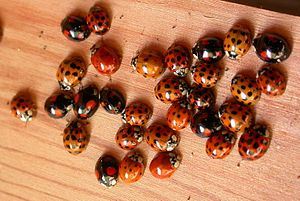red: (252, 33, 290, 63), (217, 102, 253, 132), (143, 122, 180, 150), (240, 126, 270, 160), (223, 23, 251, 58), (62, 119, 89, 155), (256, 66, 286, 98), (153, 75, 187, 103), (130, 52, 165, 79), (230, 74, 260, 104), (90, 44, 119, 75), (149, 150, 180, 179), (205, 132, 237, 160), (56, 55, 84, 86), (119, 151, 146, 183), (164, 44, 191, 76), (192, 61, 221, 88), (166, 102, 192, 131), (115, 126, 145, 151), (121, 103, 152, 127), (9, 96, 36, 123), (86, 7, 109, 34)
two_spots: (93, 154, 120, 190), (44, 92, 73, 119)
two_spots_mutant: (72, 88, 100, 118), (190, 111, 221, 138), (192, 35, 223, 60), (60, 14, 87, 41), (100, 88, 125, 114)
